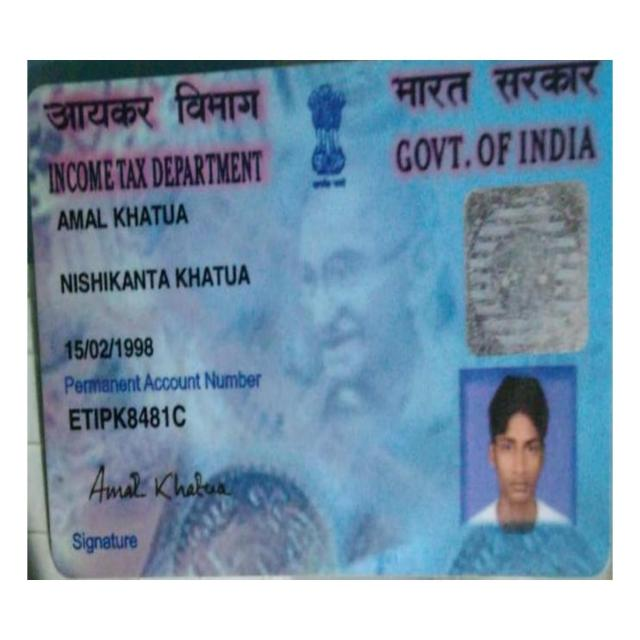pan_card: (28, 61, 611, 581)
